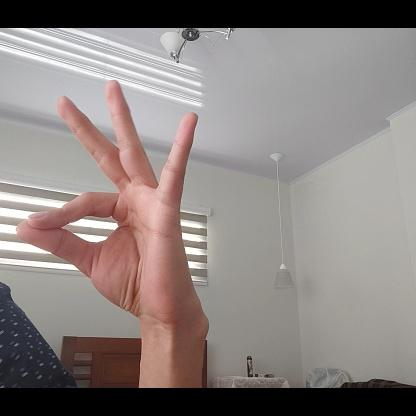F: (17, 77, 201, 323)
